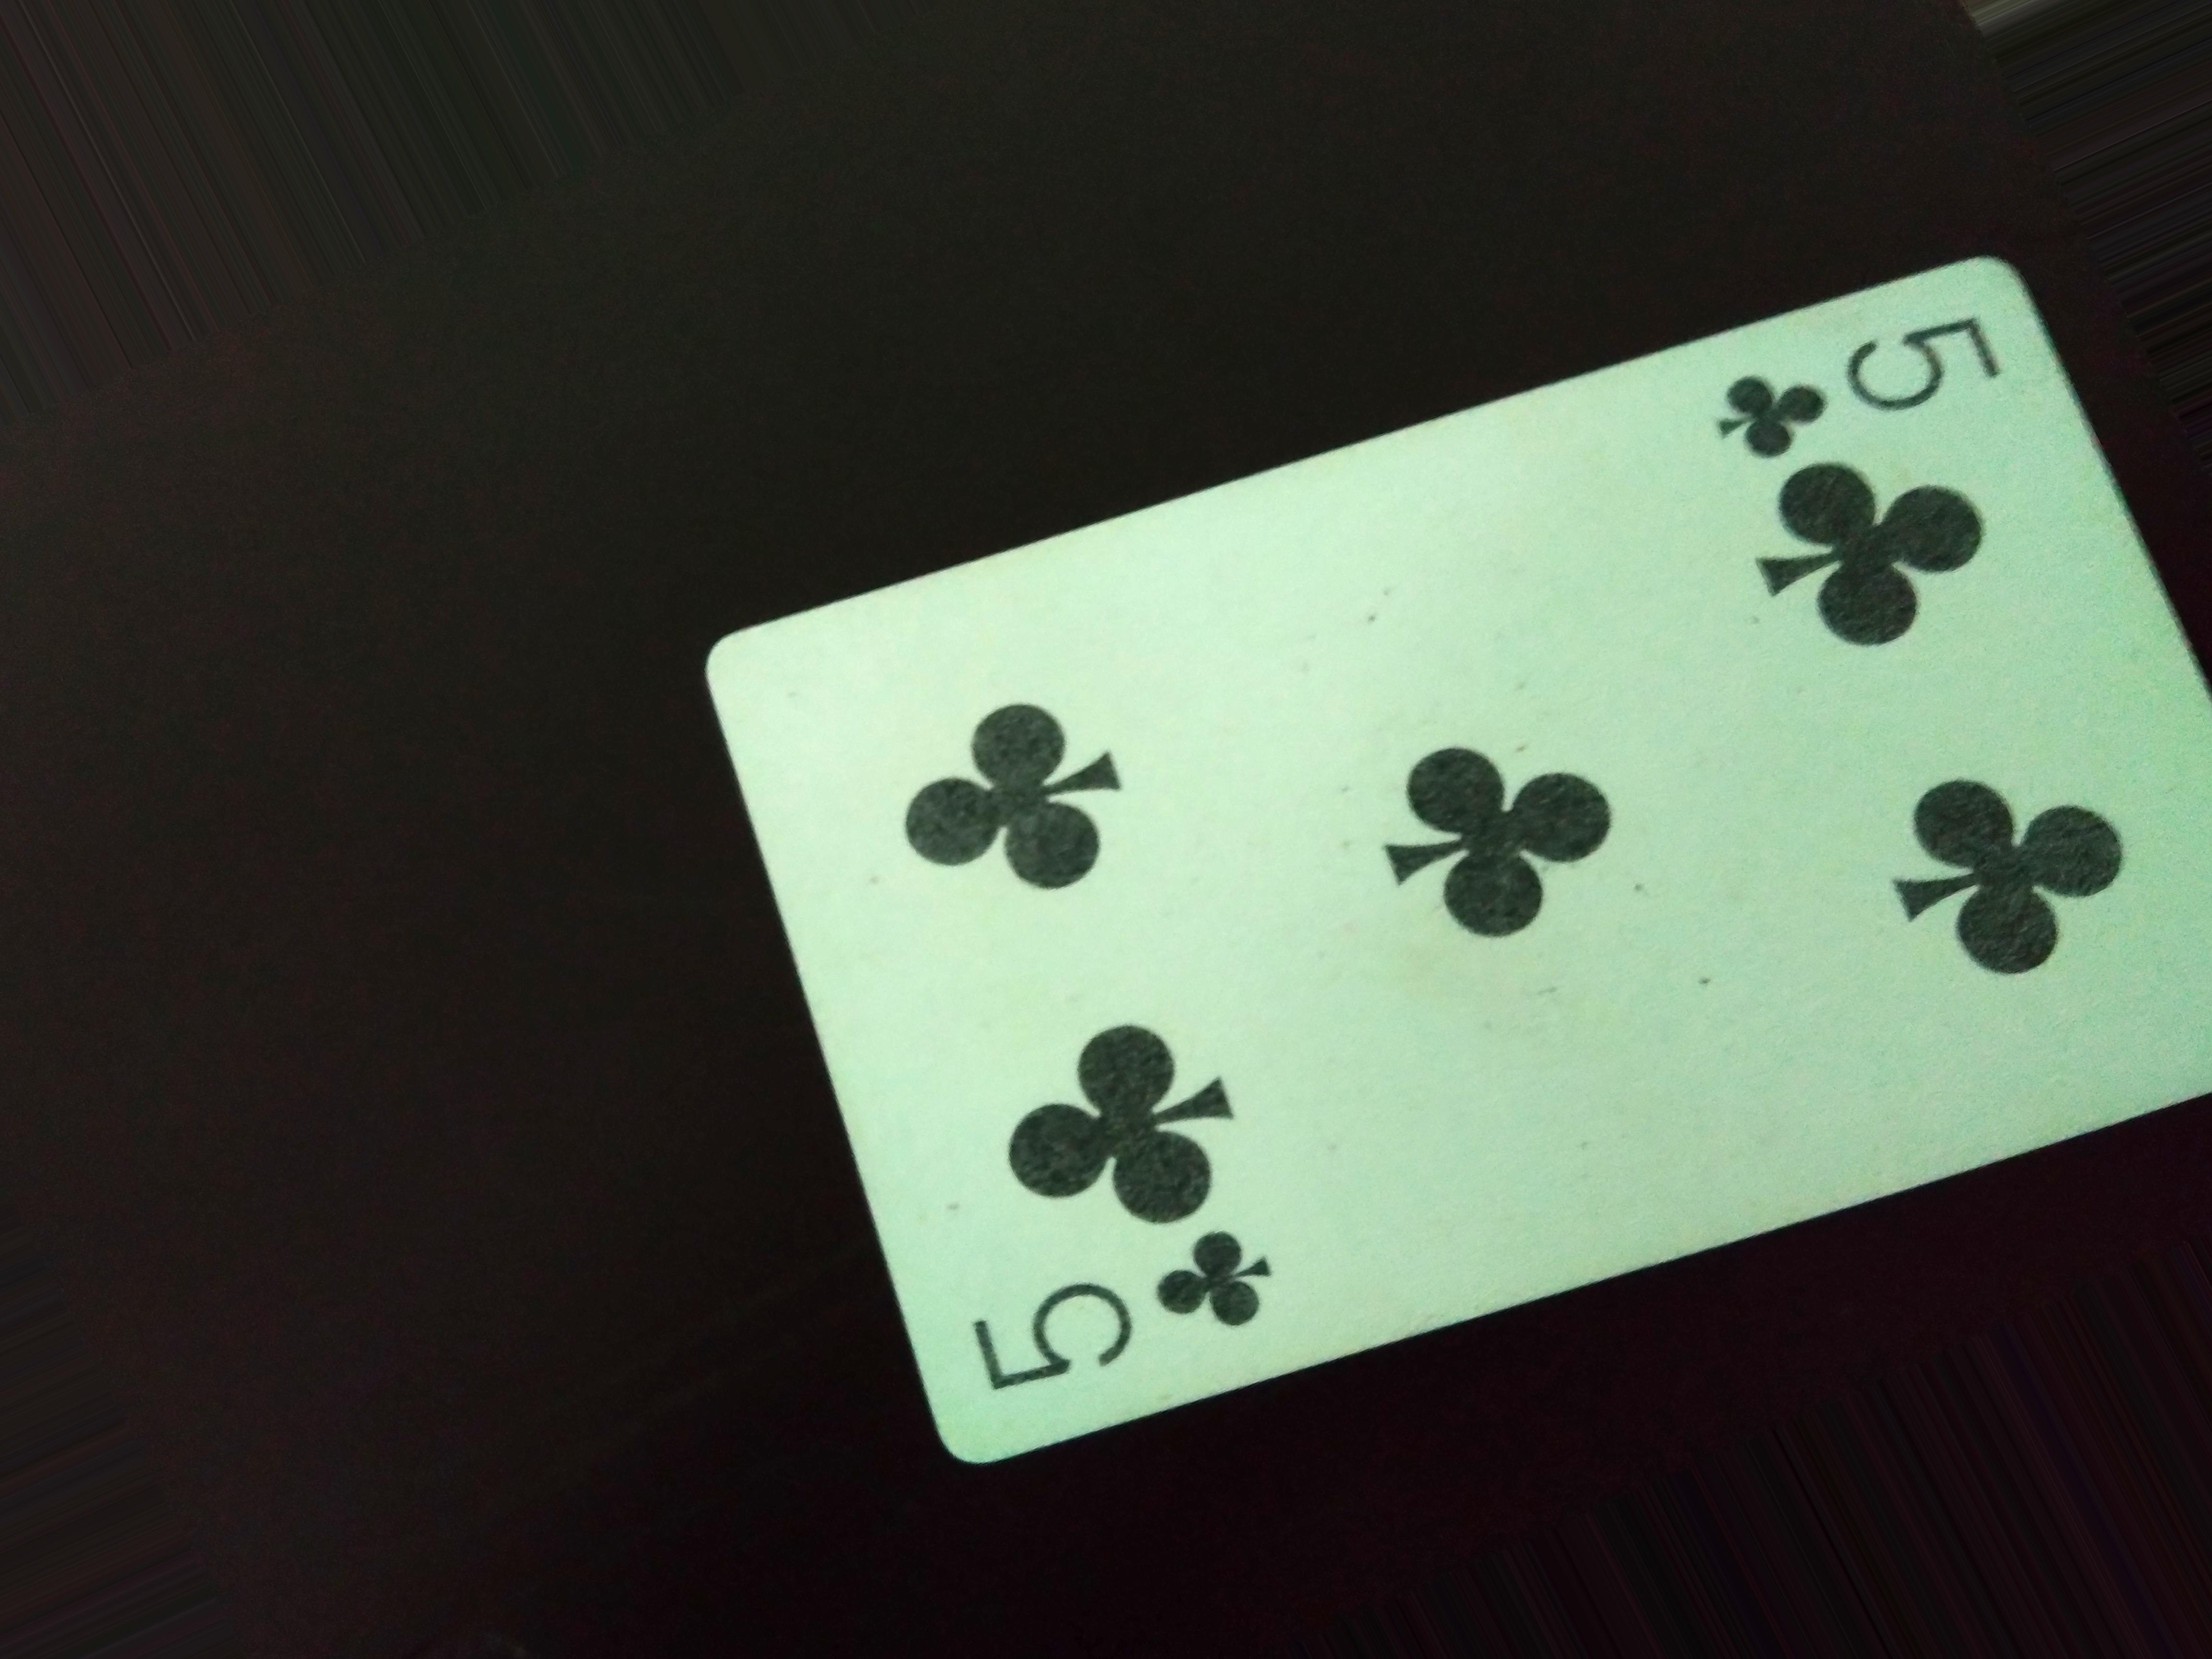5C: (935, 1227, 1310, 1387)
